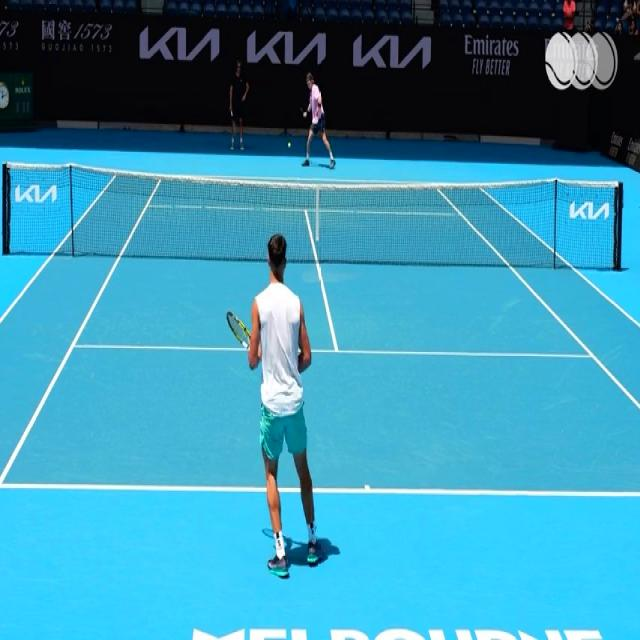ready-position: (227, 230, 331, 577)
